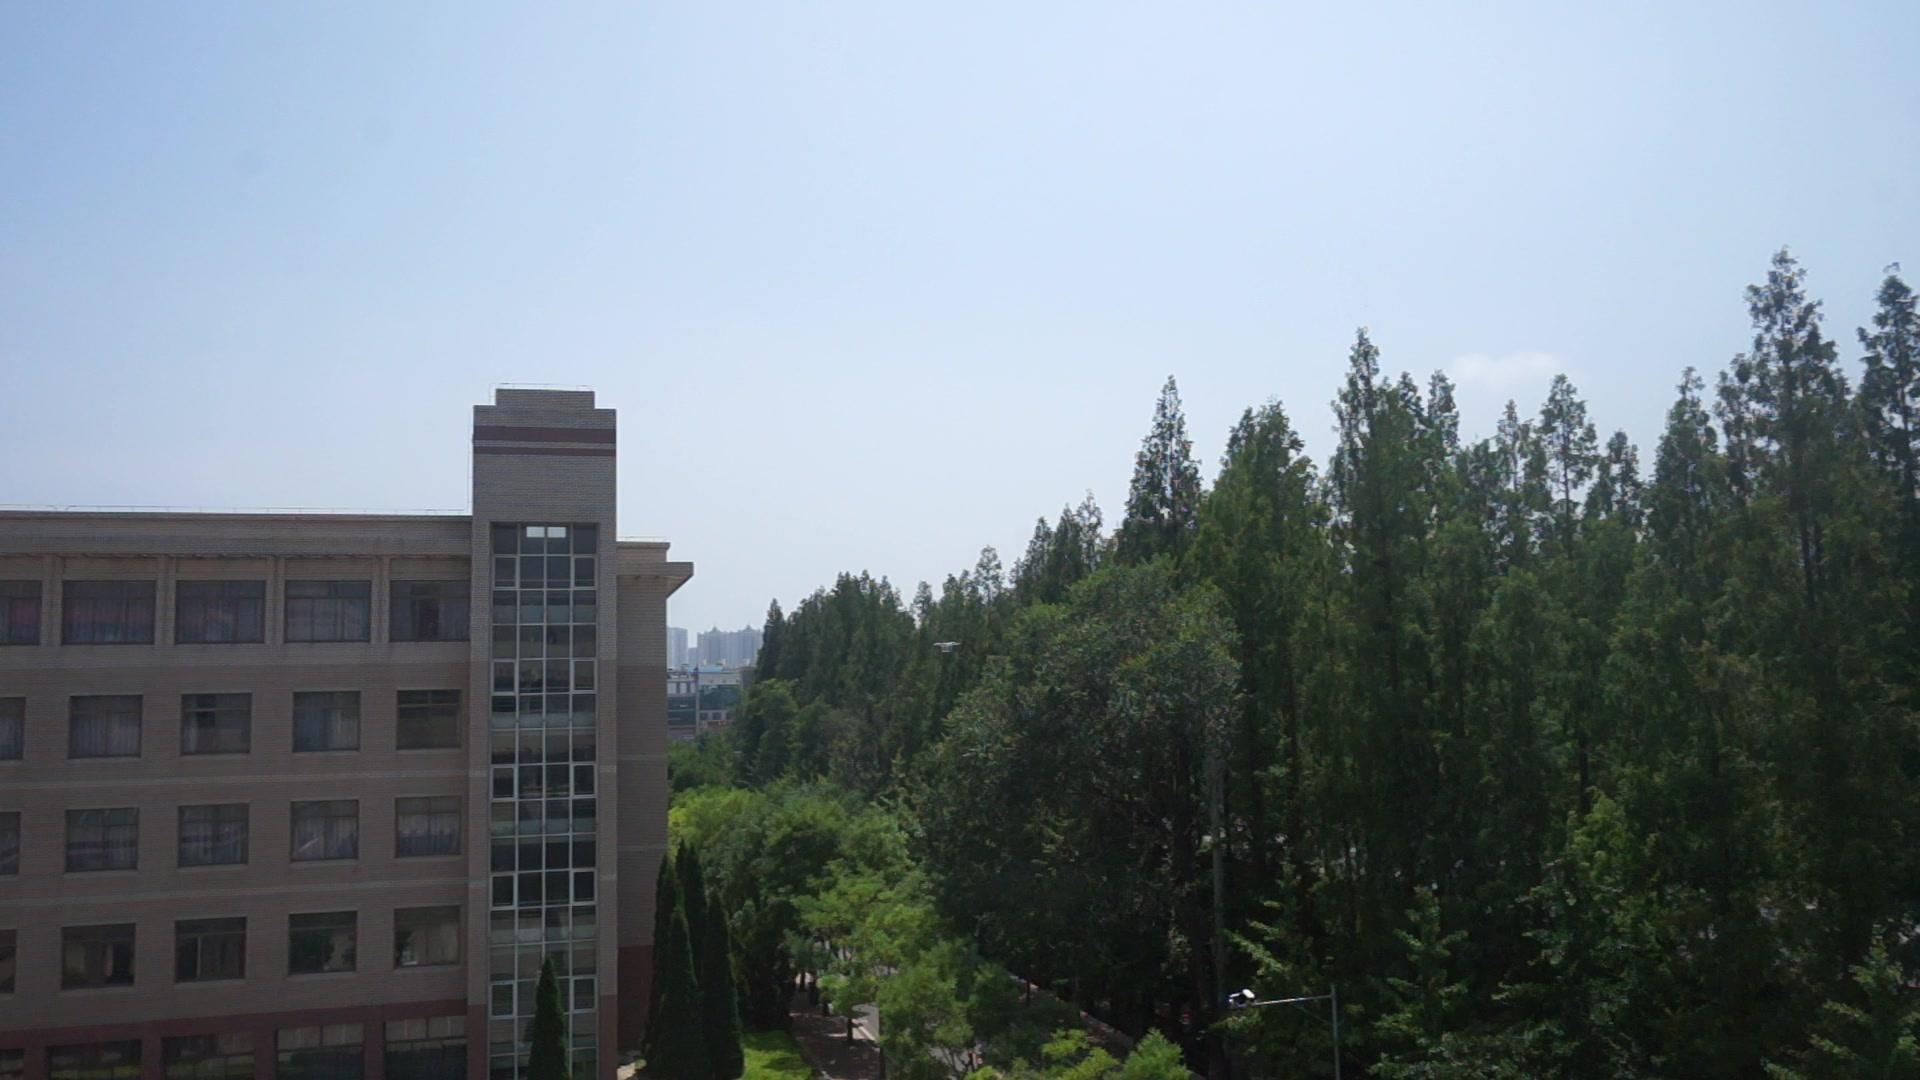UAV: (934, 642, 963, 653)
